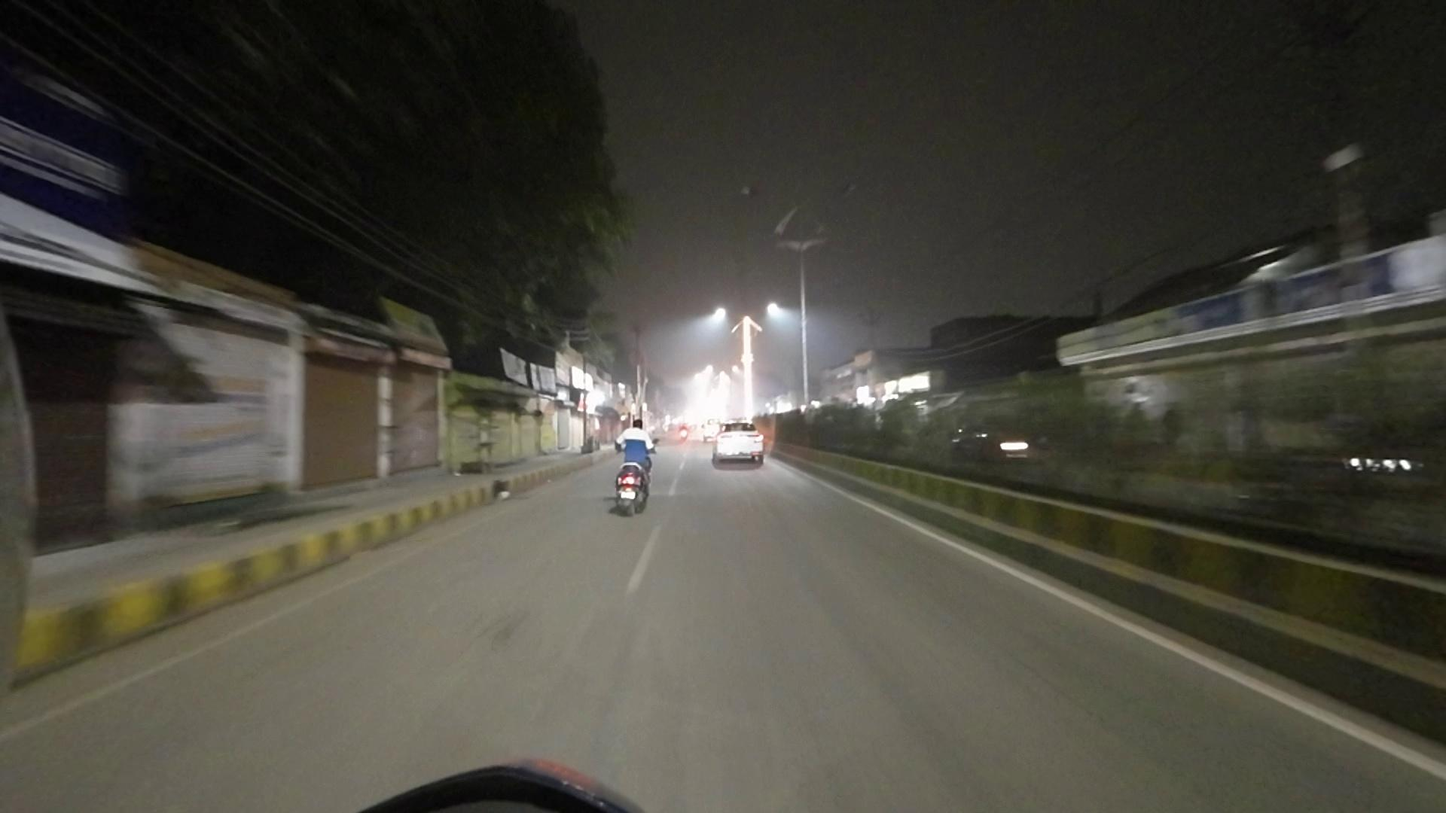streetlight: (736, 183, 780, 202), (812, 182, 857, 199)
